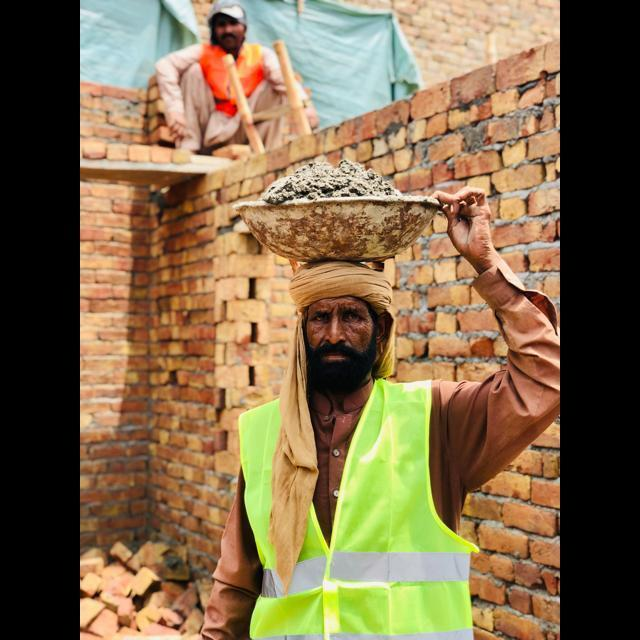safety_vest: (224, 364, 486, 620), (176, 34, 280, 142)
